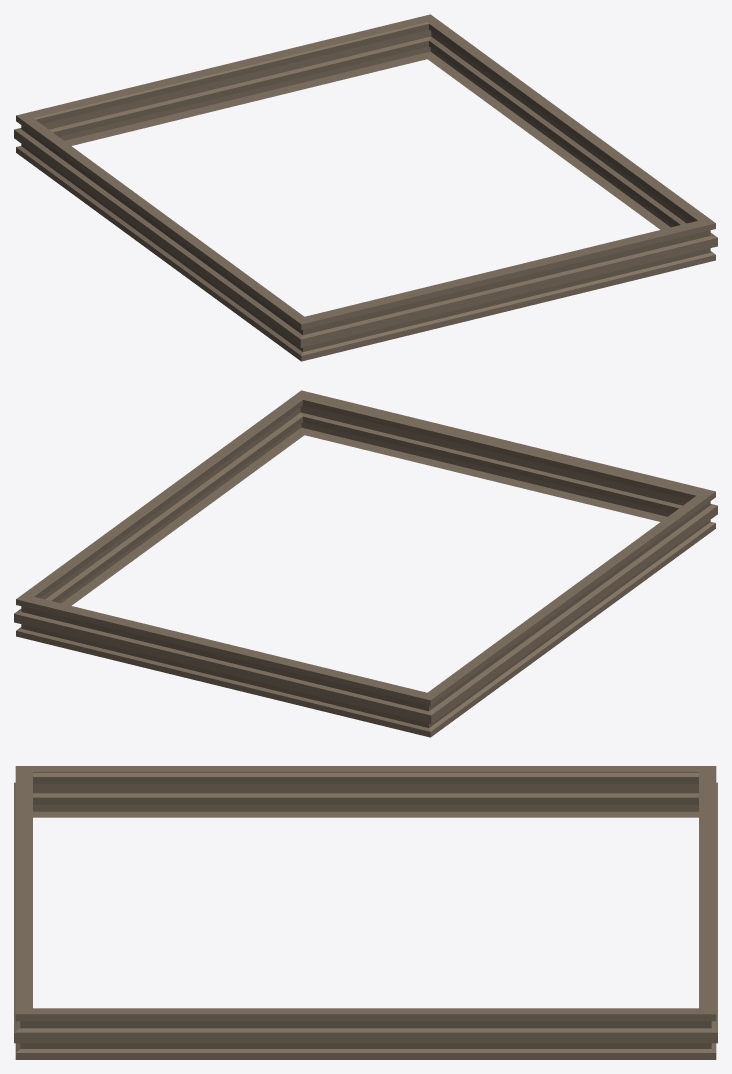
File: SM_Bldg_City_Apartment_T1_Cornice_02.fbx
3 views of the same model, one above another, from view 1: azimuth 30°, elevation 25°; view 2: azimuth 150°, elevation 25°; view 3: azimuth 270°, elevation 25° (orthographic). The views are drawn at different scales.
Parts seen in each view (by area): view 1: SM_Bldg_City_Apartment_T1_Cornice_02; view 2: SM_Bldg_City_Apartment_T1_Cornice_02; view 3: SM_Bldg_City_Apartment_T1_Cornice_02.
Part boxes in pixels (bbox=[...]): SM_Bldg_City_Apartment_T1_Cornice_02: bbox=[14, 14, 717, 361]; SM_Bldg_City_Apartment_T1_Cornice_02: bbox=[14, 390, 717, 737]; SM_Bldg_City_Apartment_T1_Cornice_02: bbox=[14, 766, 717, 1059].
Size of the model in its own units: 523 by 44.56 by 623.
